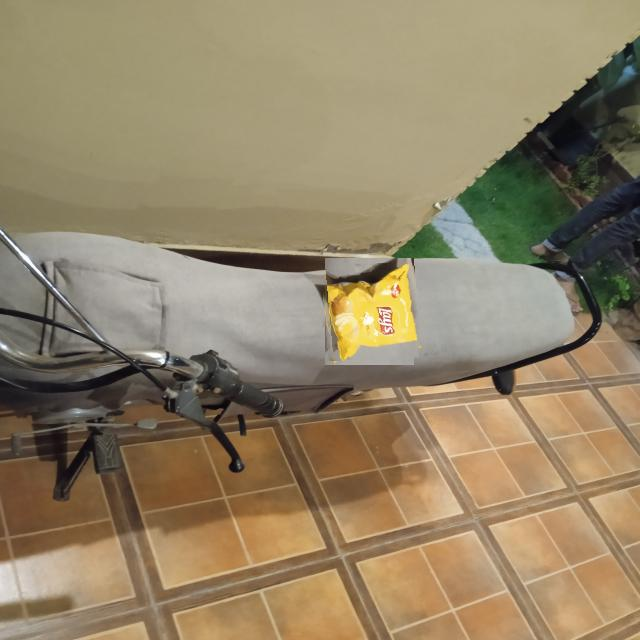Plastic: (320, 263, 419, 361)
